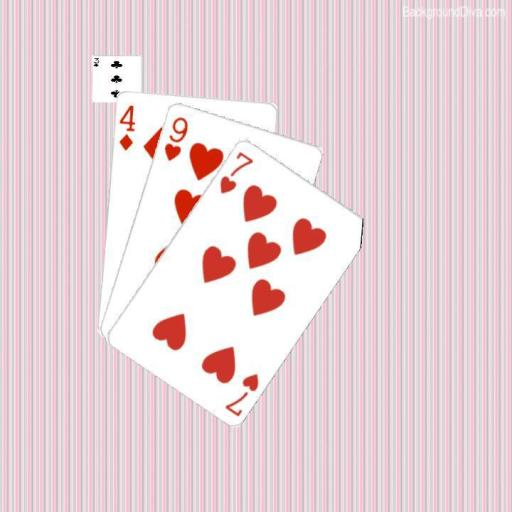card-corner: (221, 370, 260, 418), (216, 148, 255, 195), (161, 113, 189, 162), (115, 101, 137, 151)
